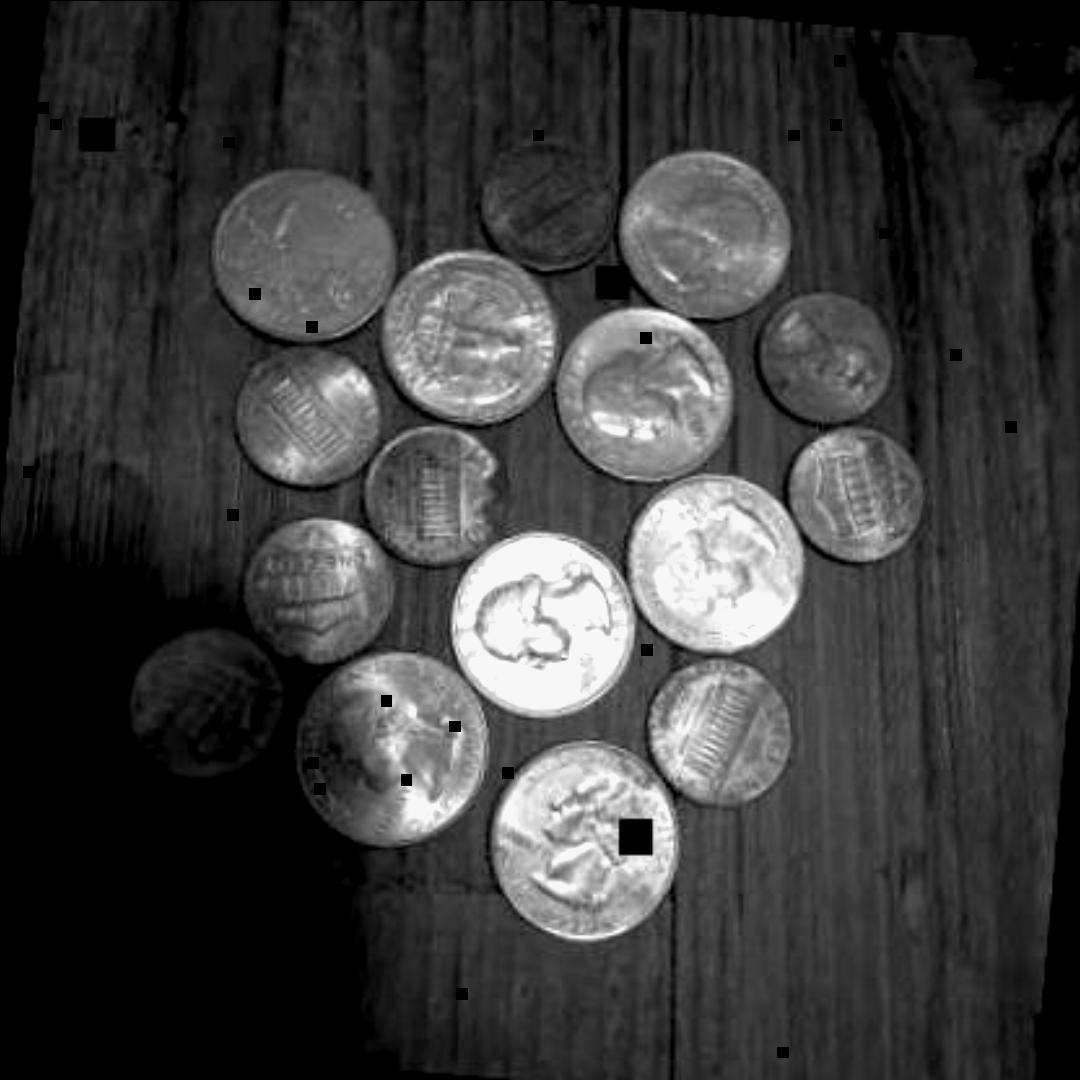Penny: (115, 620, 288, 791), (638, 646, 800, 814), (225, 334, 391, 487), (240, 508, 406, 661), (356, 413, 514, 573), (750, 288, 902, 442), (468, 122, 620, 276), (776, 424, 932, 570)
Quarter: (286, 640, 500, 856), (486, 730, 688, 954), (197, 150, 407, 356), (448, 522, 640, 732), (621, 464, 813, 662), (610, 140, 802, 337), (555, 296, 741, 494), (378, 242, 564, 431)
